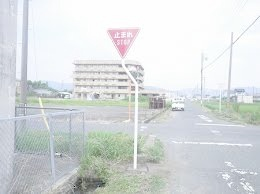Regulatory_sign_triangle: (107, 26, 142, 61)
